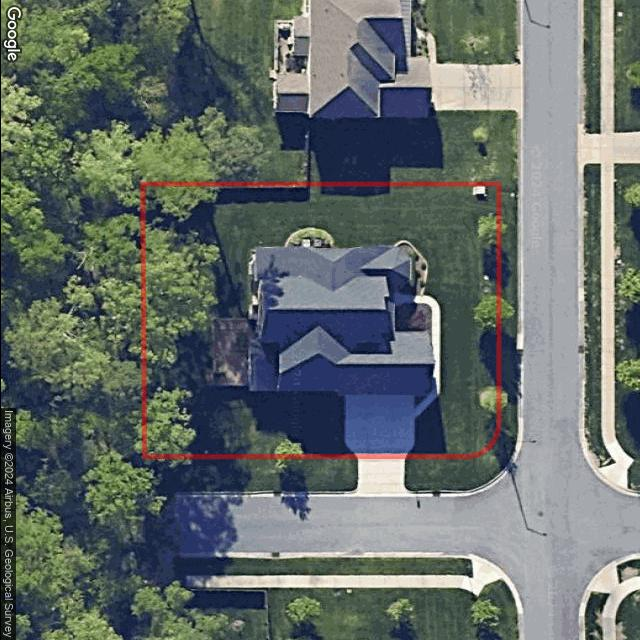Driveway: (345, 393, 413, 457)
Extra-Driveway: (352, 458, 404, 496)
Extra-Lawn: (404, 184, 517, 493), (149, 455, 357, 494)
House: (250, 246, 433, 394)
Lawn: (143, 184, 498, 458)
Other: (209, 318, 250, 386), (392, 240, 426, 295), (394, 304, 430, 332), (285, 228, 333, 248), (413, 395, 424, 405)
Sidewalk: (394, 295, 440, 420)
